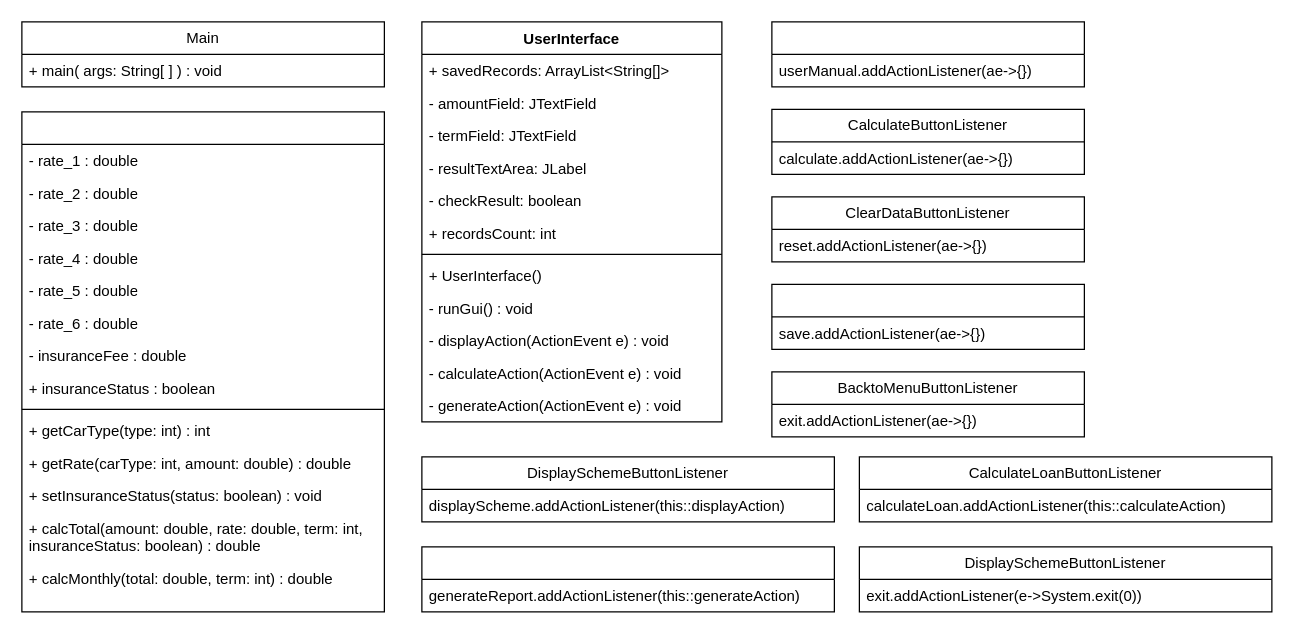
Image size: 1294x638. Some labels were removed from this diagram. The box of each missing label's shape, as (x1, y1, x2, y2) in pixels:
CarLoan: (21, 111, 384, 612)
GenerateSummaryReportButtonListener: (421, 546, 834, 612)
SaveRecordButtonListener: (771, 283, 1084, 349)
UserManualButtonListener: (771, 21, 1084, 87)
